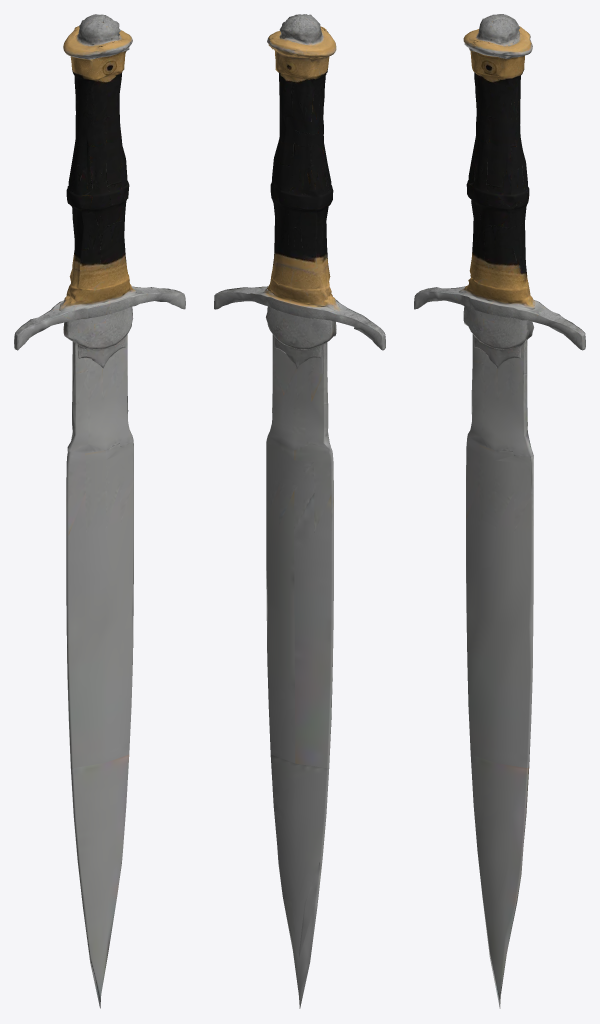
File: dagger.glb
3 renders of one model, left to right at view 1: azimuth 30°, elevation 25°; view 2: azimuth 150°, elevation 25°; view 3: azimuth 330°, elevation 25°, orthographic.
Visible parts, largest first — view 1: midway-fit; view 2: midway-fit; view 3: midway-fit.
Boxes of the visible parts, x1,y1,x2,y2 form: midway-fit: (14,14,185,1008); midway-fit: (214,14,385,1008); midway-fit: (414,14,585,1008).
Bounding box in the file's own units: 0.1783 × 1 × 0.0591.
1 material, 1 textured.
